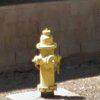Hydrant: (20, 17, 63, 100)
